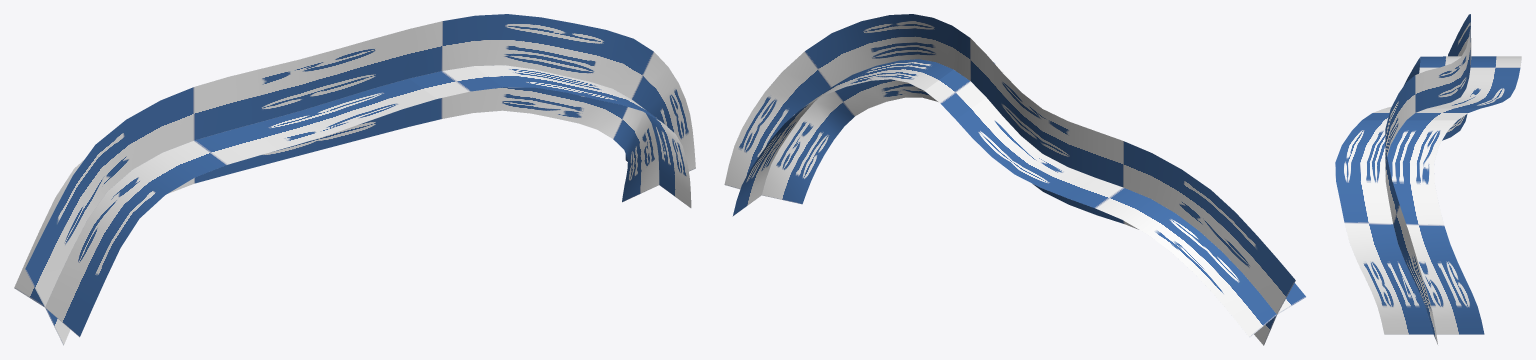
File: NeWind2.fbx
3 renders of one model, left to right at view 1: azimuth 30°, elevation 25°; view 2: azimuth 150°, elevation 25°; view 3: azimuth 270°, elevation 25°, orthographic. The views are drawn at different scales.
Visible parts, largest first — view 1: SM_e_Plc_P0002_Wind004; view 2: SM_e_Plc_P0002_Wind004; view 3: SM_e_Plc_P0002_Wind004.
Boxes of the visible parts, x1,y1,x2,y2 form: SM_e_Plc_P0002_Wind004: [14, 14, 695, 345]; SM_e_Plc_P0002_Wind004: [724, 14, 1305, 345]; SM_e_Plc_P0002_Wind004: [1335, 14, 1521, 344].
Size of the model in its own units: 185 by 68.17 by 58.94.
